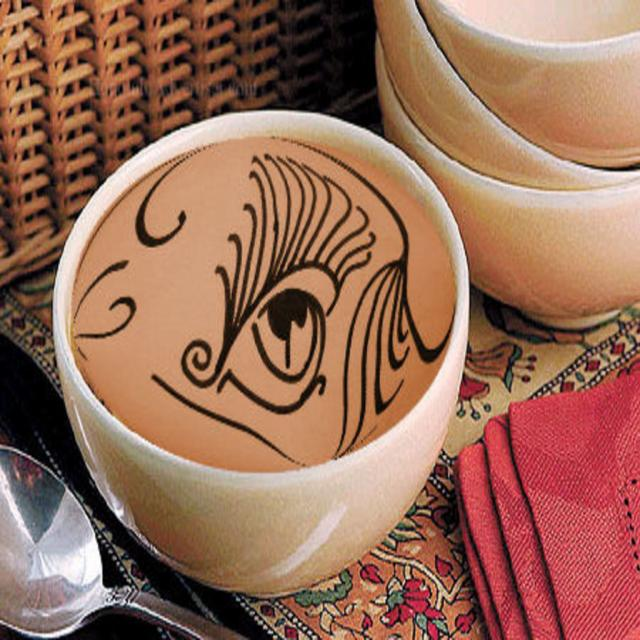Coffee: (44, 132, 468, 534)
